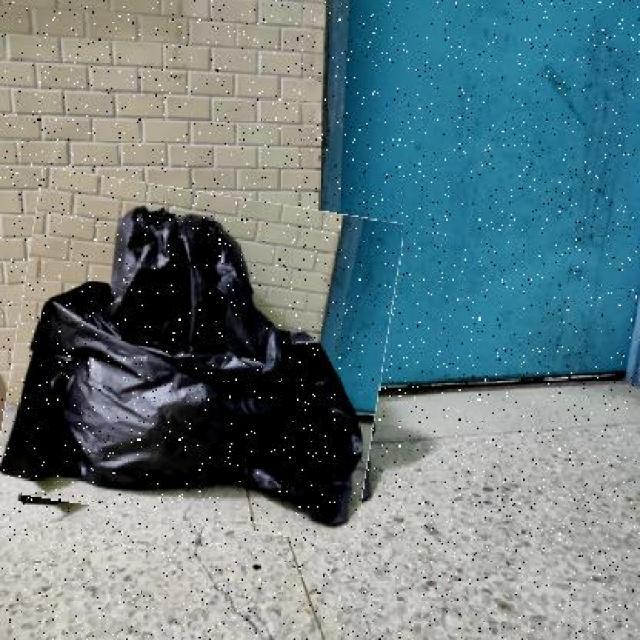waste: (3, 181, 394, 534)
